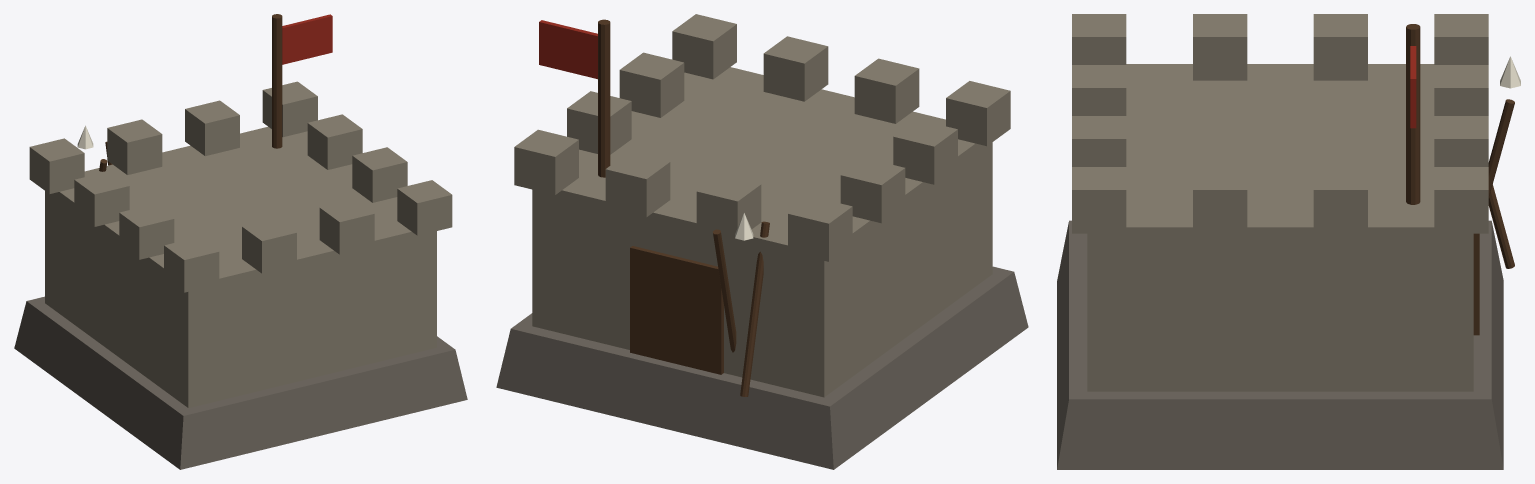
File: barracks.glb
3 renders of one model, left to right at view 1: azimuth 30°, elevation 25°; view 2: azimuth 150°, elevation 25°; view 3: azimuth 270°, elevation 25°, orthographic. The views are drawn at different scales.
Parts seen in each view (by area): view 1: base; view 2: base; view 3: base.
Boxes of the visible parts, x1=… form: base: x1=14, y1=14, x2=467, y2=469; base: x1=496, y1=14, x2=1028, y2=469; base: x1=1057, y1=14, x2=1520, y2=469.
Size of the model in its own units: 0.74 by 0.74 by 0.7684.
